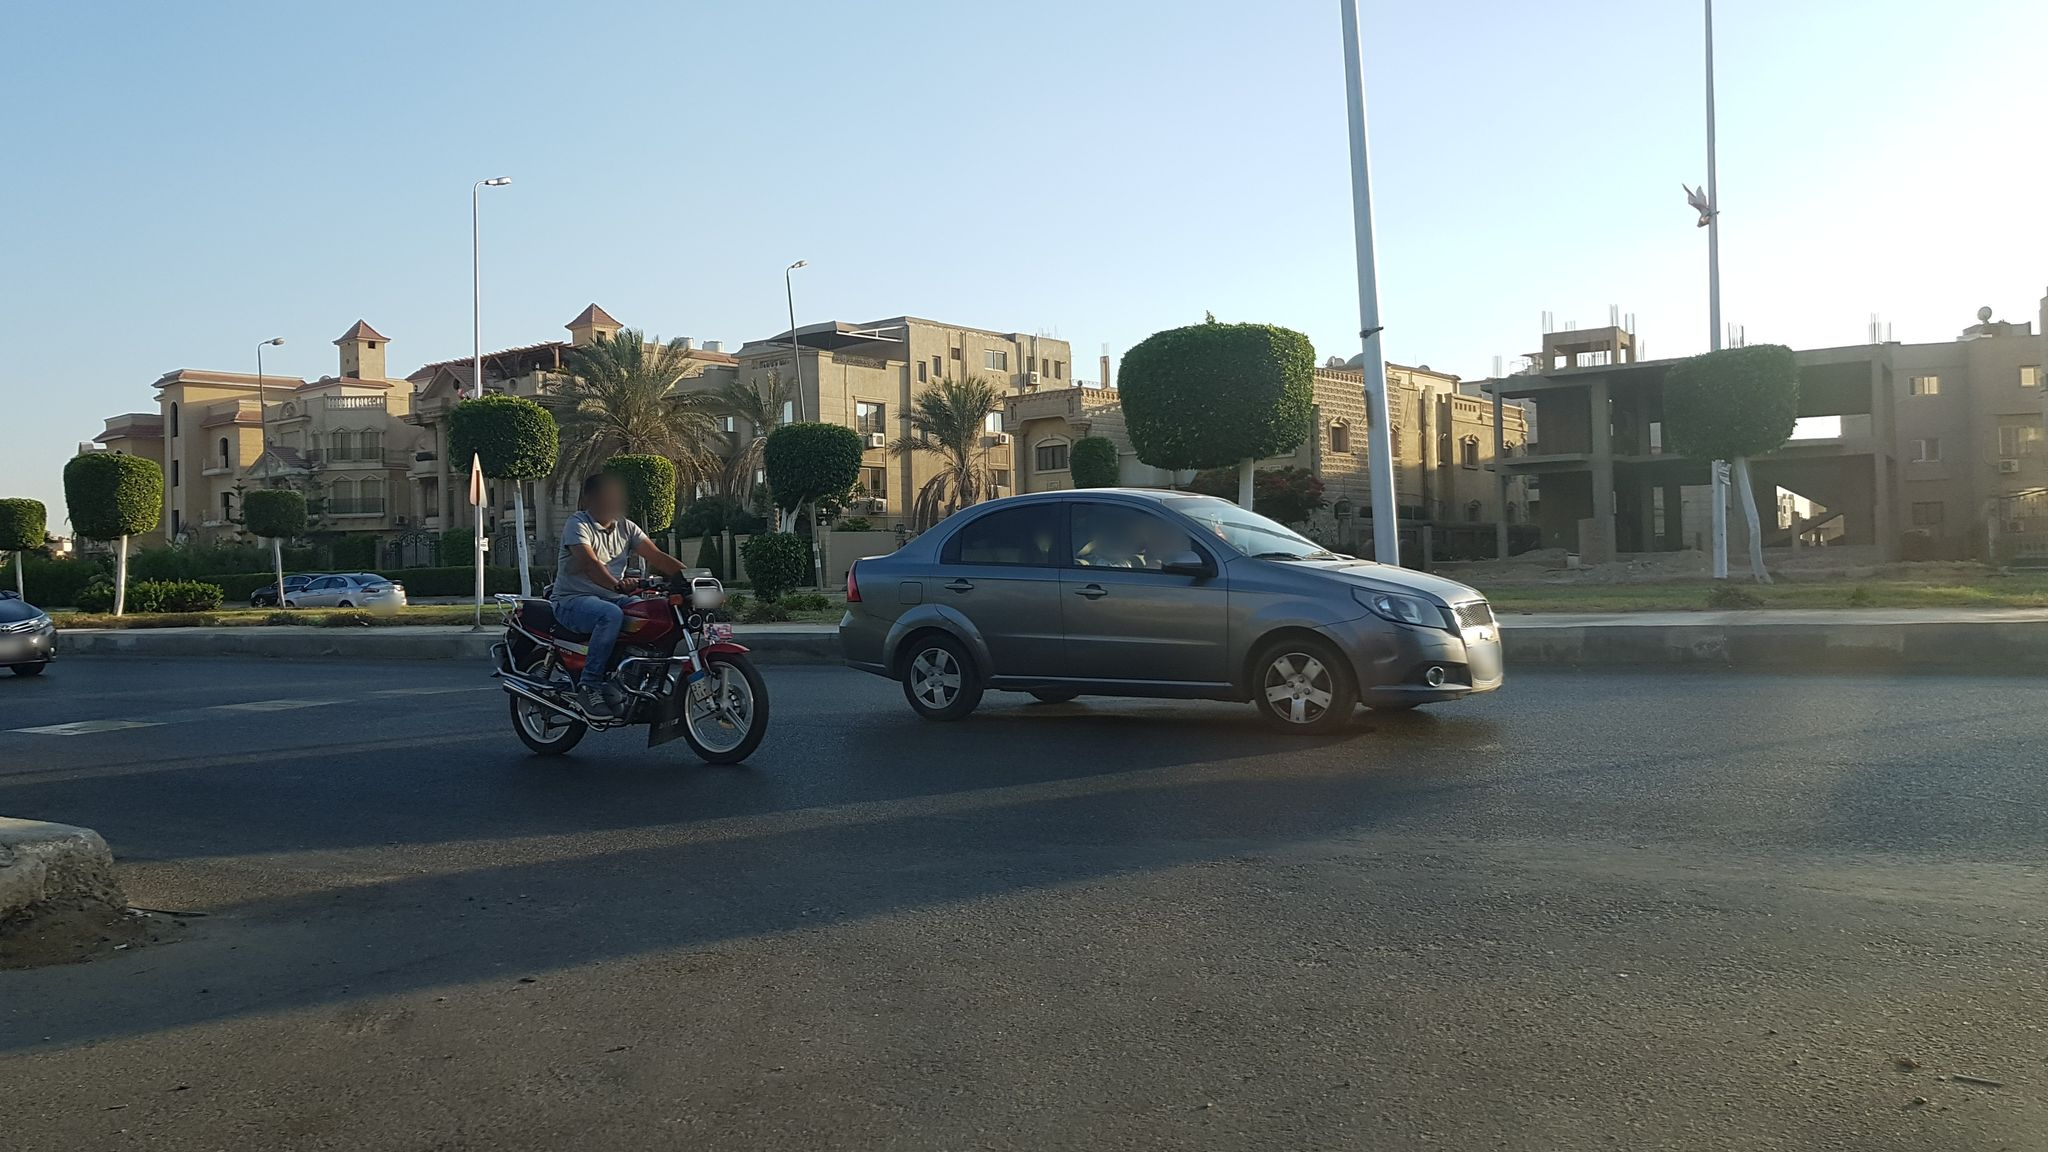car: (828, 487, 1508, 729), (276, 572, 407, 610), (0, 589, 58, 675), (249, 572, 328, 608)
motorcycle: (489, 568, 774, 760)
